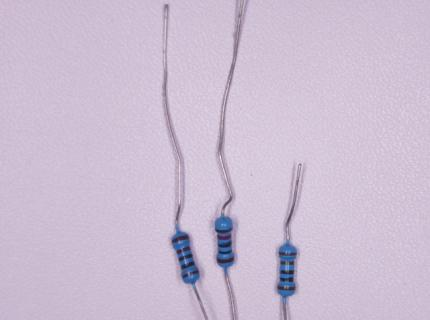Brown band: (177, 246, 190, 255), (281, 261, 294, 265)
